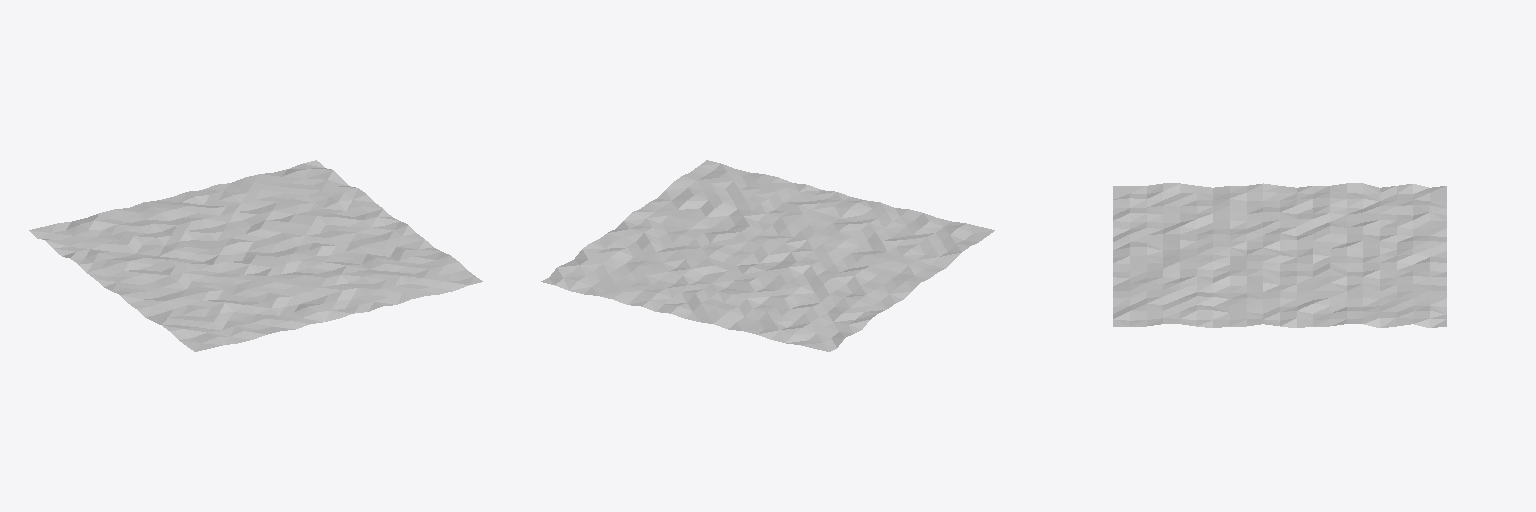
File: SM_Generic_Ocean_Tile_Bumps_01.obj
3 views of the same model, side by side, from view 1: azimuth 30°, elevation 25°; view 2: azimuth 150°, elevation 25°; view 3: azimuth 270°, elevation 25° (orthographic).
Bounding box in the file's own units: 3000 × 43.34 × 3000.